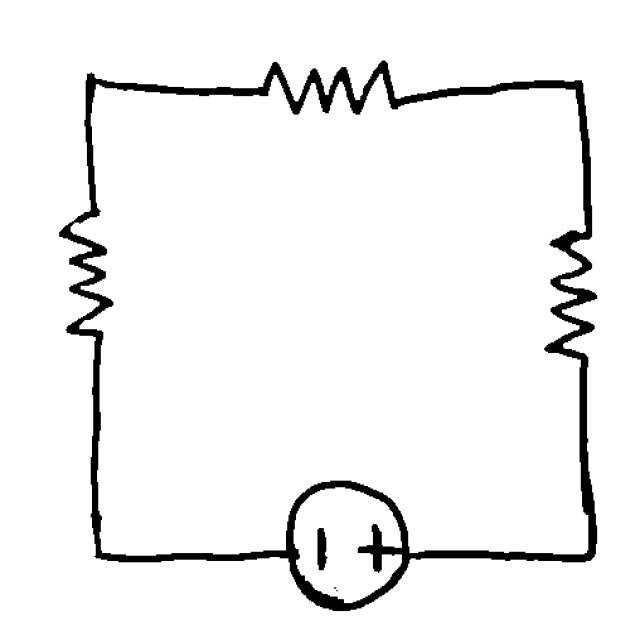resistor: (276, 473, 415, 616), (39, 200, 130, 364), (243, 48, 416, 133), (533, 215, 609, 379)
